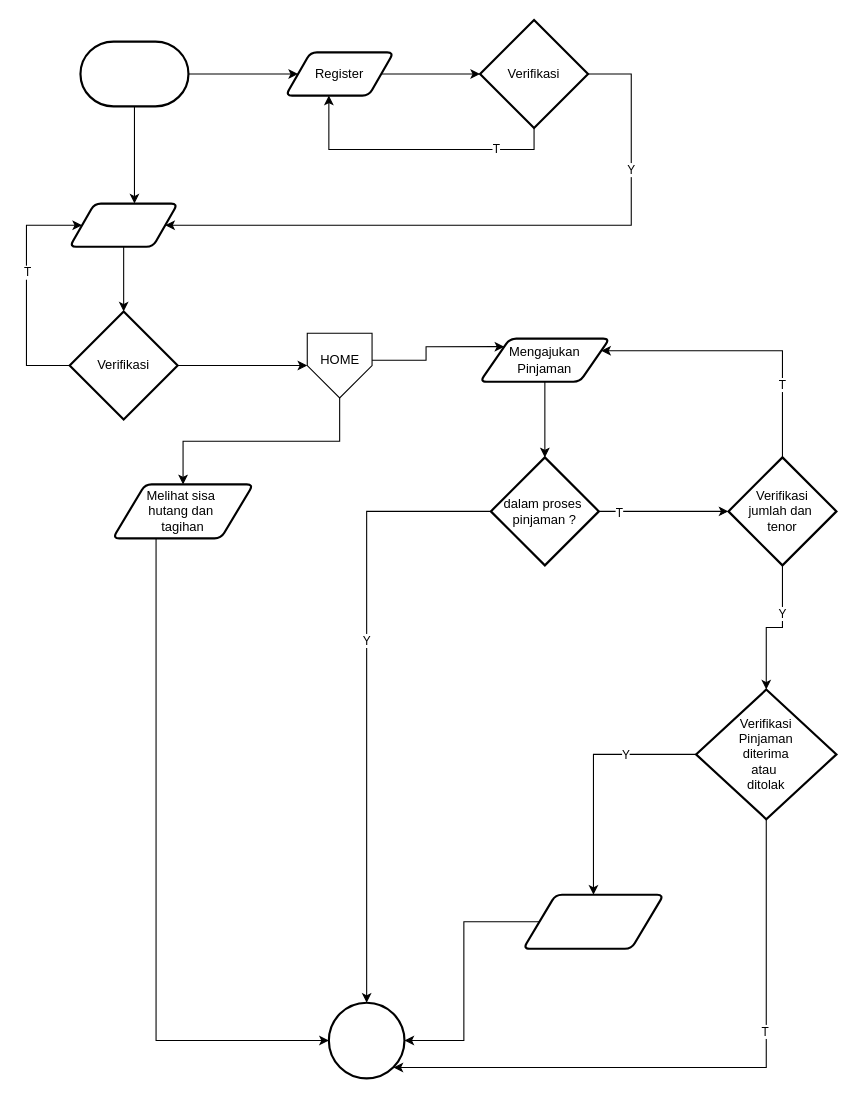
The diagram is 856 pixels wide and 1097 high, and some of its shapes have lost their labels. The shapes that lost their labels are listed below. From the top down, each one's centre as x and y in pixels, then its label:
point (134, 73): START
point (123, 224): Login
point (593, 921): Notif SMS atau Email
point (366, 1040): END
